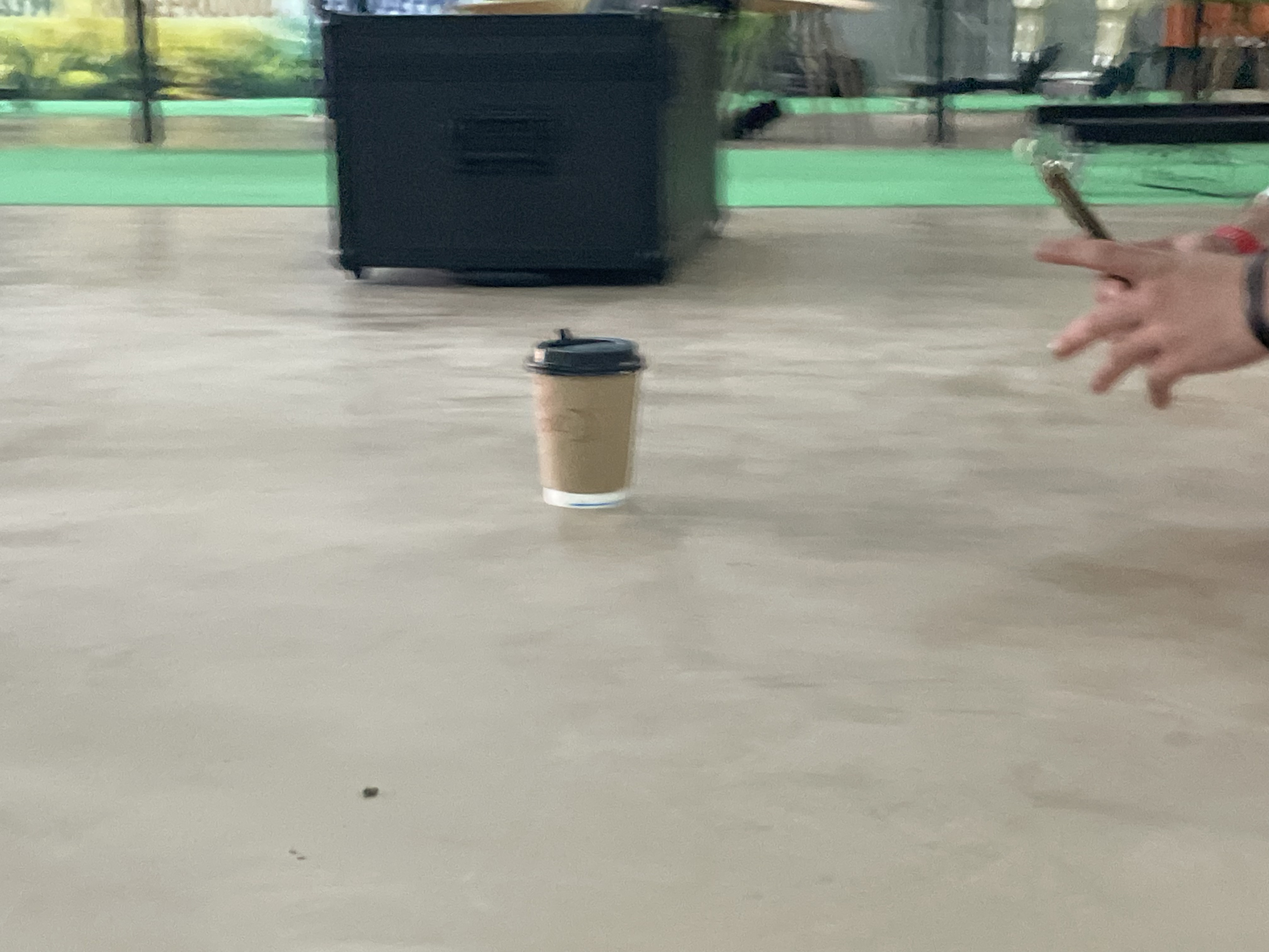cup: (523, 328, 648, 509)
